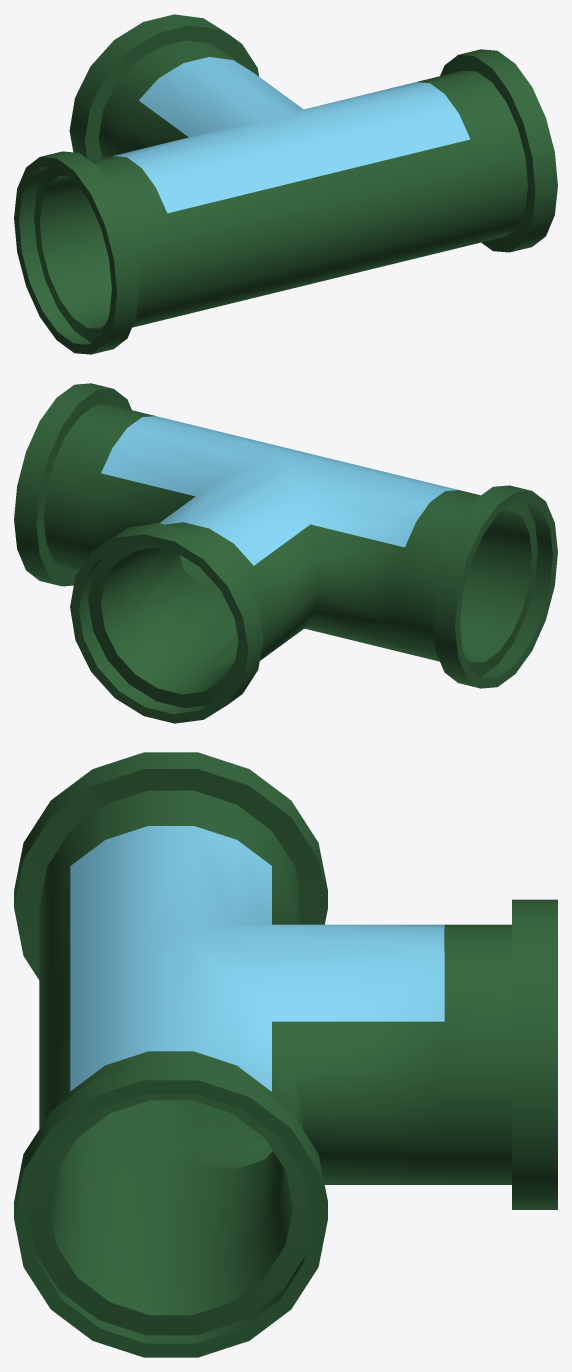
File: ventana T.fbx
3 renders of one model, top to bottom at view 1: azimuth 30°, elevation 25°; view 2: azimuth 150°, elevation 25°; view 3: azimuth 270°, elevation 25°, orthographic. The views are drawn at different scales.
Visible parts, largest first — view 1: T con ventana, ventana T; view 2: T con ventana, ventana T; view 3: T con ventana, ventana T.
Boxes of the visible parts, box(x1,y1,x2,y2) form: T con ventana: box(14, 14, 557, 354); ventana T: box(113, 57, 470, 213); T con ventana: box(14, 383, 557, 723); ventana T: box(101, 416, 457, 565); T con ventana: box(14, 752, 557, 1357); ventana T: box(70, 826, 444, 1091).
Size of the model in its own units: 1 by 0.3942 by 0.7012.
